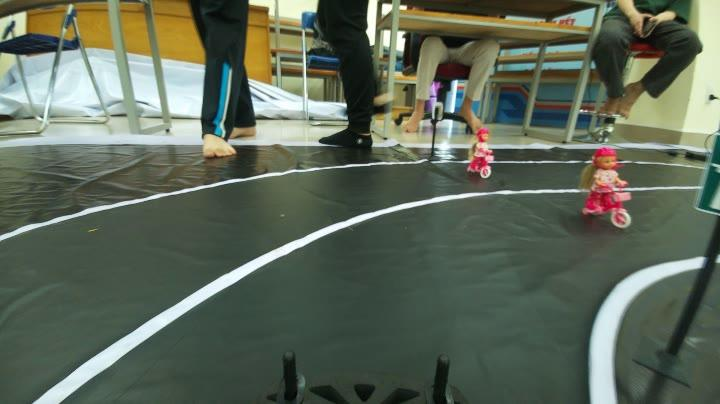pedestrian: (566, 142, 638, 232), (460, 122, 505, 180)
